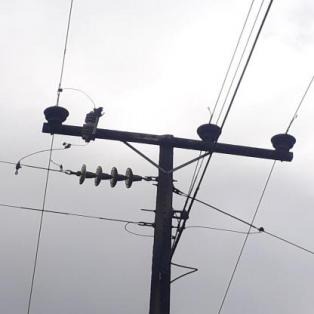Poste: (136, 128, 180, 314)
